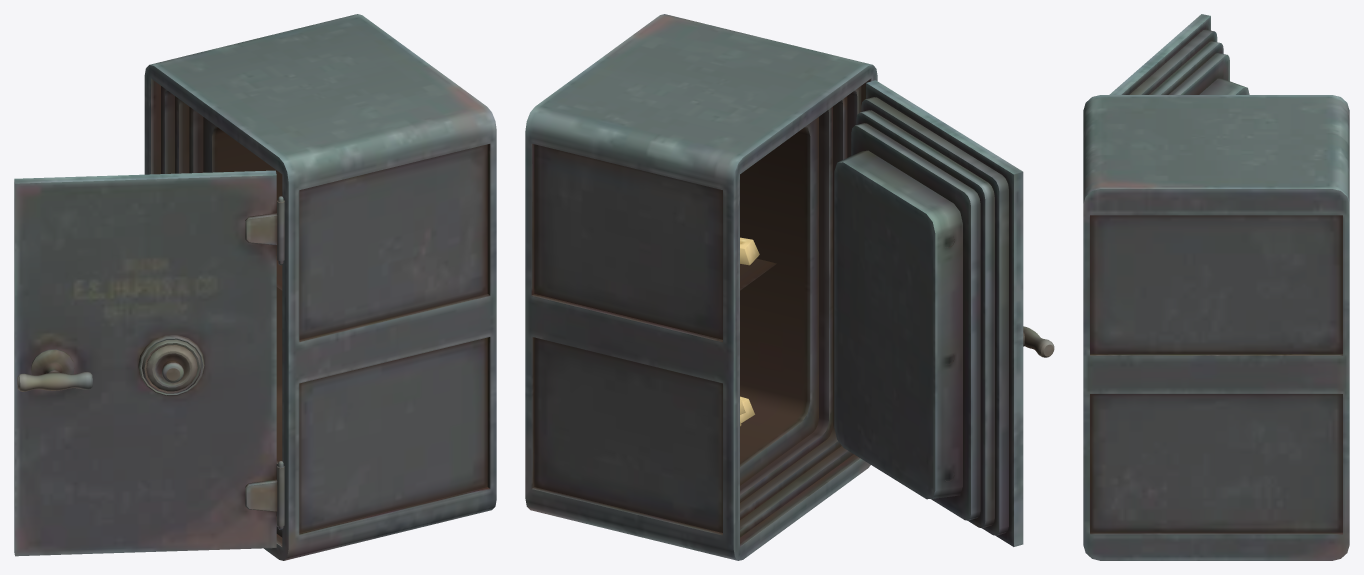
Rendered from safe-western.glb.
3 views of the same model, side by side, from view 1: azimuth 30°, elevation 25°; view 2: azimuth 150°, elevation 25°; view 3: azimuth 270°, elevation 25° (orthographic). The views are drawn at different scales.
Parts seen in each view (by area): view 1: Safe_FINAL, Safe_Door_FINAL, Lockets_FINAL, Locker_FINAL, Locker_Base_FINAL, Handle_FINAL, Cylinders_Lockets_FINAL, Handle_Base_FINAL; view 2: Safe_FINAL, Safe_Door_FINAL; view 3: Safe_FINAL, Safe_Door_FINAL.
Part boxes in pixels (<box>): Safe_FINAL: <box>144,14,496,560</box>; Safe_Door_FINAL: <box>14,170,276,556</box>; Lockets_FINAL: <box>245,213,277,511</box>; Locker_FINAL: <box>146,344,197,391</box>; Locker_Base_FINAL: <box>138,335,204,395</box>; Handle_FINAL: <box>17,371,92,391</box>; Cylinders_Lockets_FINAL: <box>277,196,284,529</box>; Handle_Base_FINAL: <box>31,349,74,375</box>; Safe_FINAL: <box>525,14,877,560</box>; Safe_Door_FINAL: <box>834,80,1023,546</box>; Safe_FINAL: <box>1083,95,1349,560</box>; Safe_Door_FINAL: <box>1109,14,1249,94</box>.
Bounding box in the file's own units: 1.68 × 1.5 × 0.9731.
Materials: 3 (3 with a texture image).
